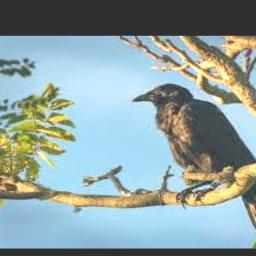Crow: (132, 83, 256, 235)
